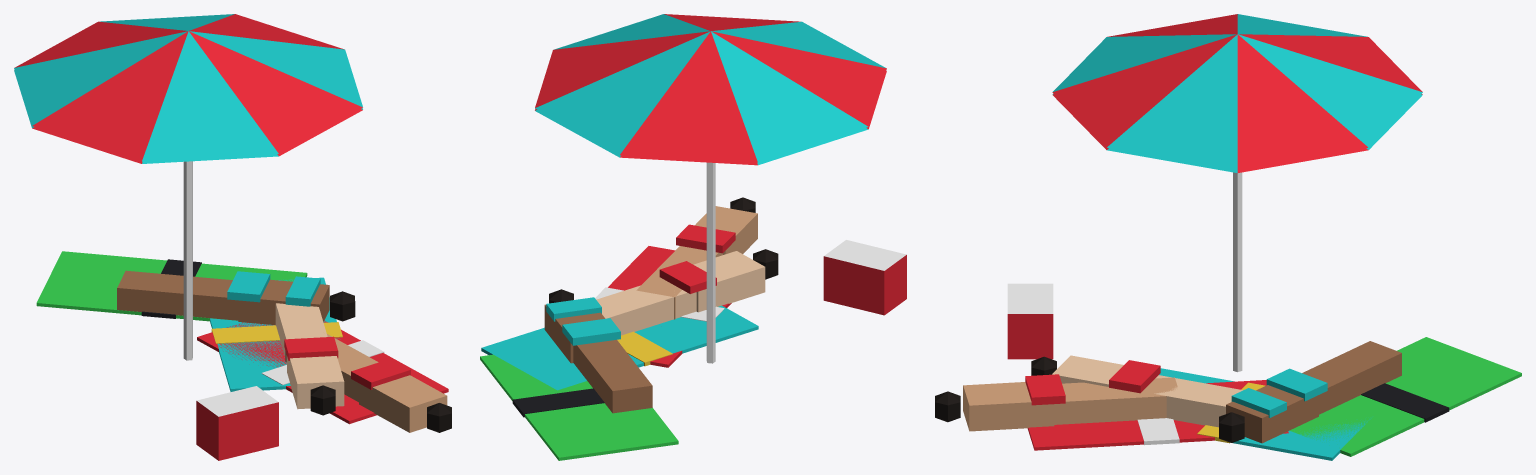
The model's file is playa_grupo_1.obj.
3 renders of one model, left to right at view 1: azimuth 30°, elevation 25°; view 2: azimuth 150°, elevation 25°; view 3: azimuth 270°, elevation 25°, orthographic. The views are drawn at different scales.
Parts seen in each view (by area): view 1: playa_grupo_1; view 2: playa_grupo_1; view 3: playa_grupo_1.
Boxes of the visible parts, x1,y1,x2,y2 form: playa_grupo_1: (14, 14, 451, 460); playa_grupo_1: (480, 14, 906, 460); playa_grupo_1: (935, 14, 1521, 460).
Bounding box in the file's own units: 2.81 × 2.6 × 4.12.
